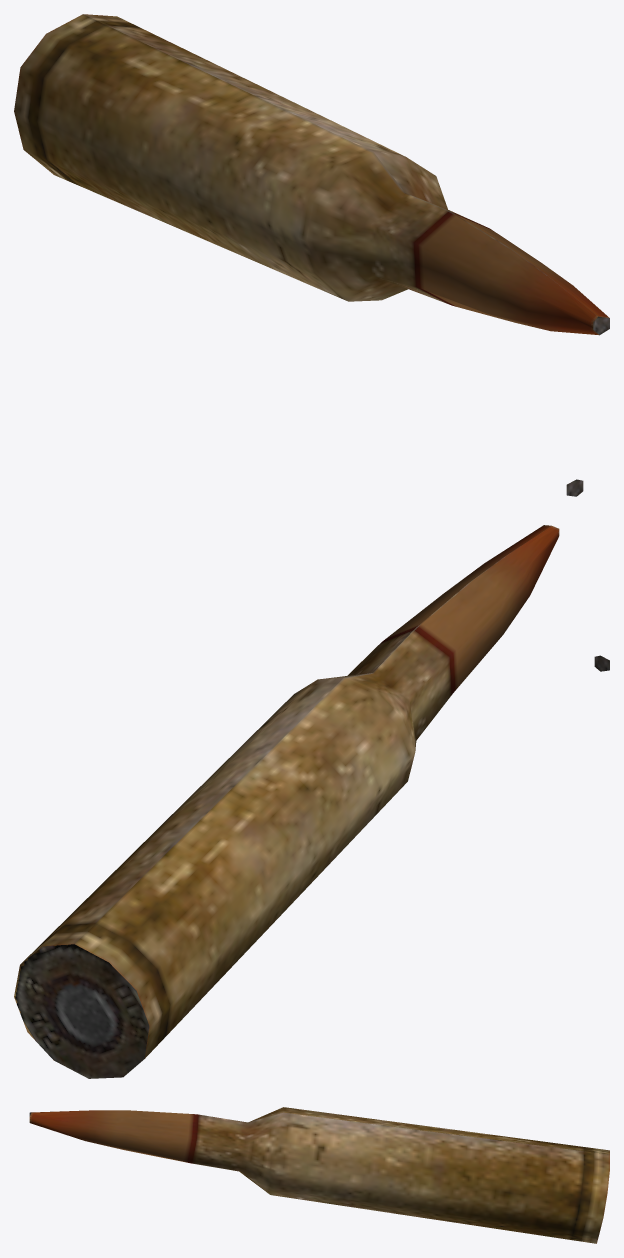
File: bullet.obj
The picture shows the model from 3 angles, top to bottom: view 1: azimuth 30°, elevation 25°; view 2: azimuth 150°, elevation 25°; view 3: azimuth 270°, elevation 25°; orthographic projection. The views are drawn at different scales.
Visible parts, largest first — view 1: _patron; view 2: _patron; view 3: _patron.
Boxes of the visible parts, x1,y1,x2,y2 form: _patron: (14,14,609,496); _patron: (14,525,609,1078); _patron: (29,1107,609,1243).
Size of the model in its own units: 0.0158 by 0.0239 by 0.0993.
1 material, 1 textured.
